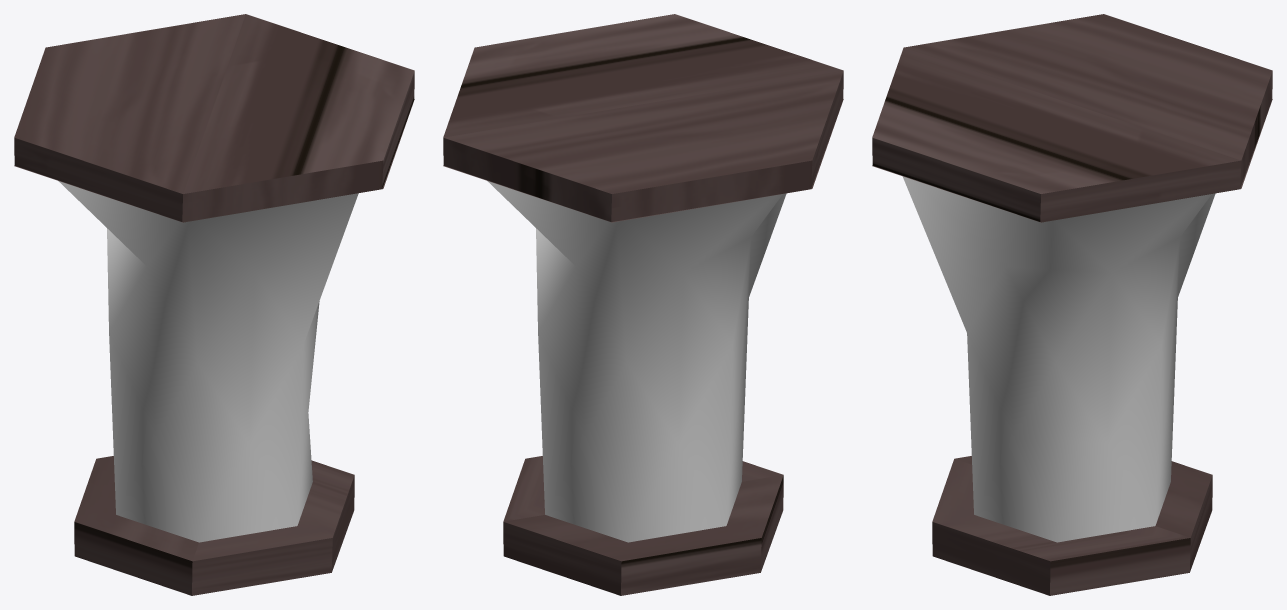
File: Console.fbx
The picture shows the model from 3 angles, left to right: view 1: azimuth 30°, elevation 25°; view 2: azimuth 150°, elevation 25°; view 3: azimuth 270°, elevation 25°; orthographic projection.
Visible parts, largest first — view 1: Cube.011; view 2: Cube.011; view 3: Cube.011.
Boxes of the visible parts, box(x1,y1,x2,y2) form: Cube.011: box(14, 14, 414, 595); Cube.011: box(443, 14, 843, 595); Cube.011: box(872, 14, 1272, 595).
Size of the model in its own units: 108 by 120 by 101.
2 materials, 1 textured.
